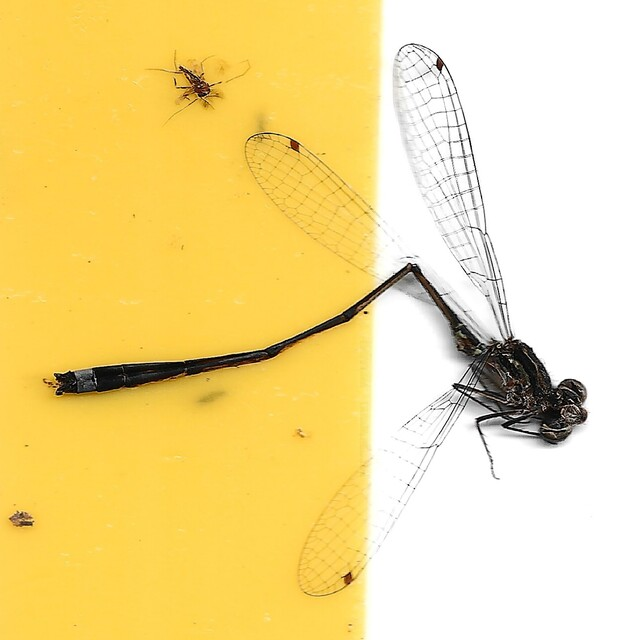Nematocera: (172, 61, 222, 109)
Odonata: (50, 43, 590, 597)
